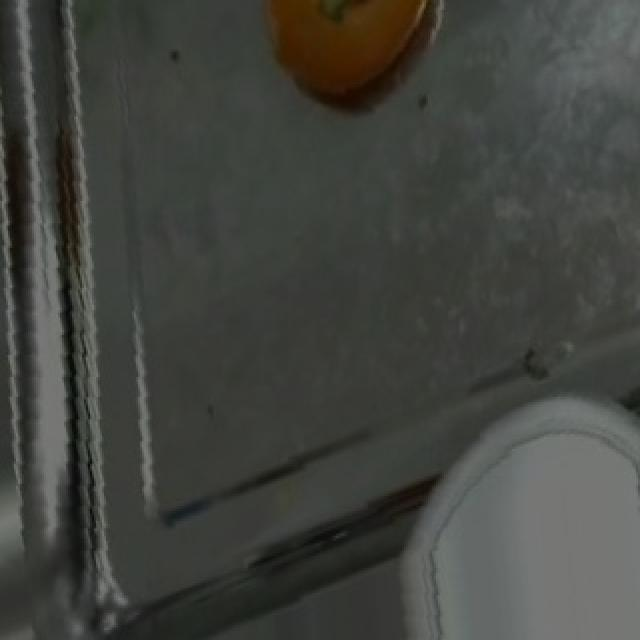Fruit: (402, 407, 638, 640), (234, 2, 468, 132)
